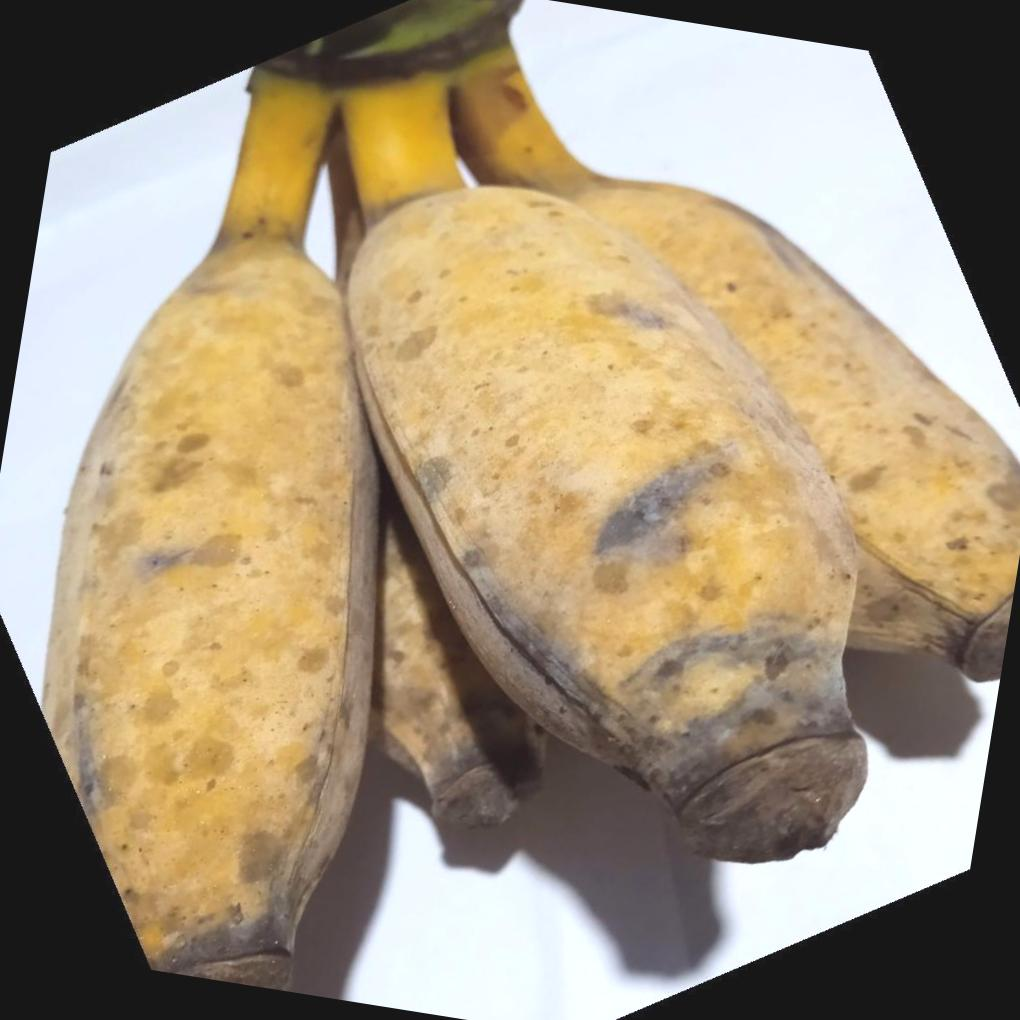Banana Ripe: (179, 0, 970, 985), (0, 24, 554, 1010), (434, 0, 1020, 719)
